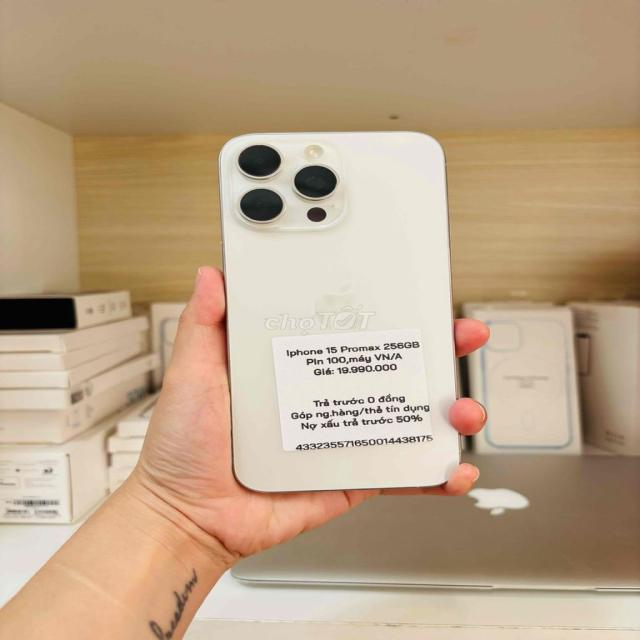gen_15: (207, 111, 485, 512)
